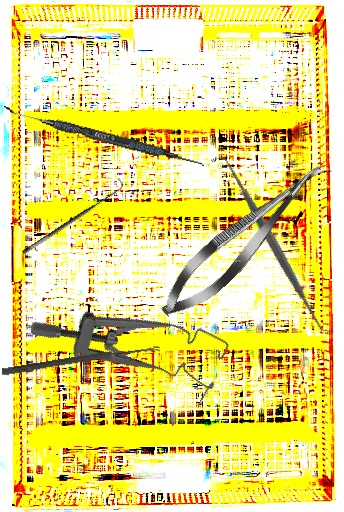Hook Surgical: (16, 176, 129, 257)
Micro Scissor: (149, 148, 340, 329)
Spatula Surgical: (214, 148, 336, 343), (1, 106, 207, 168)
Speculum: (26, 261, 236, 418)
Surgical Spoon: (1, 343, 161, 377)
